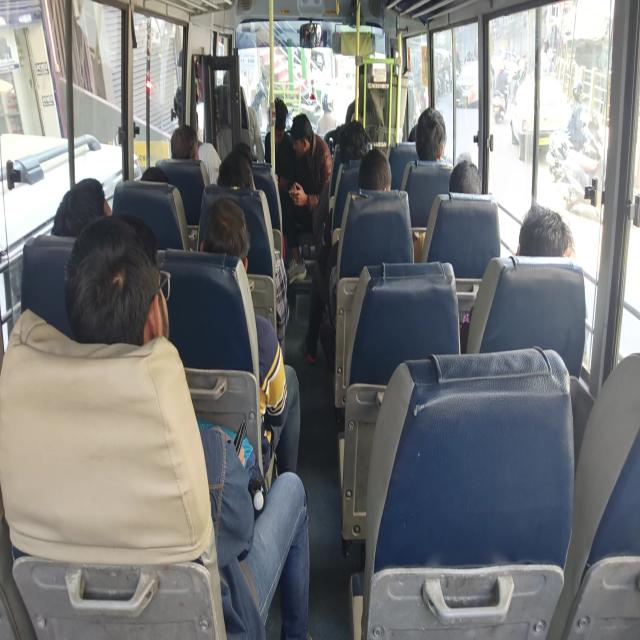person: (75, 229, 155, 357), (531, 185, 581, 273), (210, 194, 258, 277), (60, 177, 108, 258), (444, 153, 500, 222), (140, 151, 186, 210), (165, 113, 204, 172), (220, 159, 259, 215), (409, 115, 445, 161), (339, 117, 374, 161), (288, 108, 321, 154), (256, 89, 292, 130), (167, 90, 199, 134), (223, 76, 254, 114), (219, 144, 260, 168), (362, 157, 383, 186), (403, 122, 419, 141)
